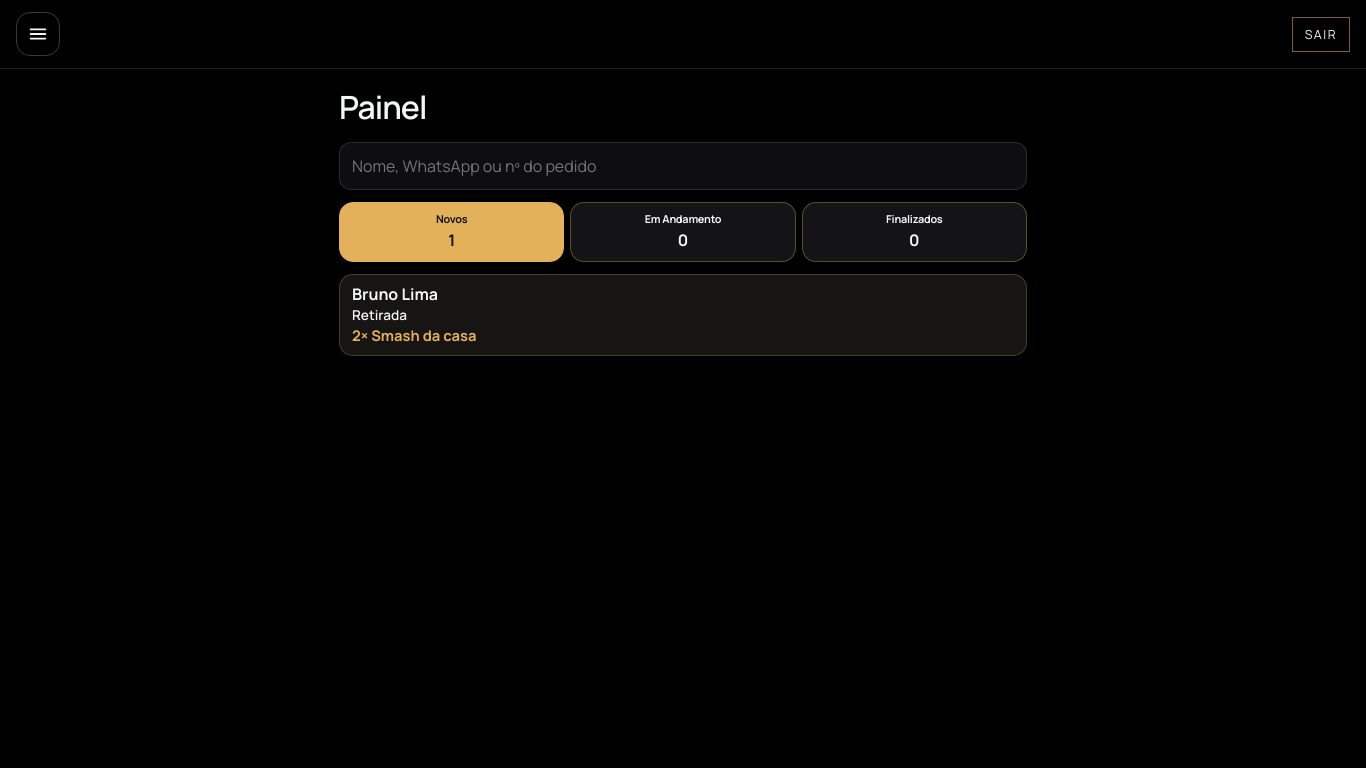
it: admin board › shows pickup on the card and in the dialog without an address
The width and height of the screenshot is (1366, 768).
Expected: the heading "Painel" is shown, [339,85,426,129]
Click the button "Bruno Lima Retirada 2× Smash da casa" at (395, 294), box [339,274,1027,356]
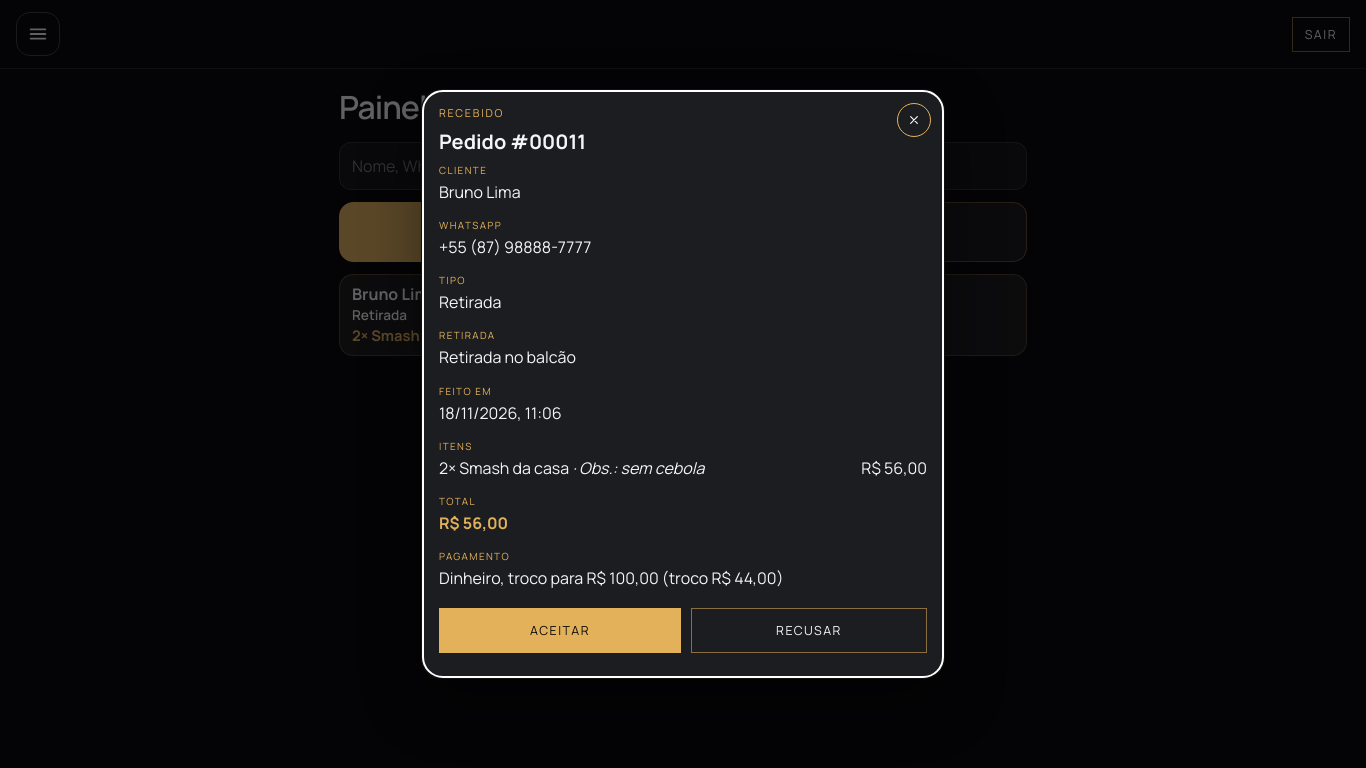
Expected: the dialog "Pedido #00011" does not show "Rua das Flores", [423,91,943,677]
Result: the dialog "Pedido #00011" shows "Retirada" at [439,291,501,313]
Result: the dialog "Pedido #00011" shows "Retirada no balcão" at [439,346,576,368]
